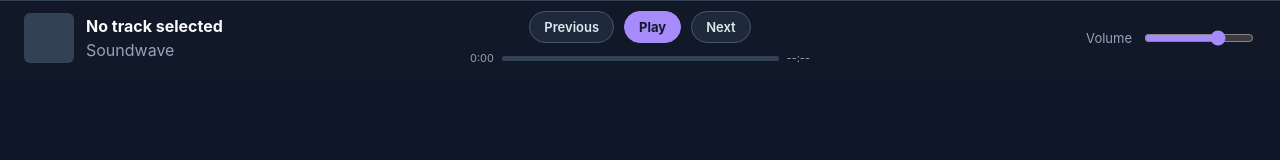
Scenario: PlaybackBar › volume interaction › clamps values outside 0-100 to the slider bounds
This screenshot has width=1280, height=160.
Set the slider labelled "Volume" to "150". click: (1199, 38)
box: x1=1144 y1=30 x2=1254 y2=46
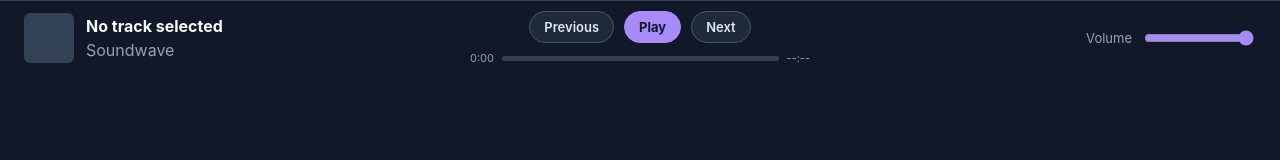
expect the slider labelled "Volume" holds "100": met
Set the slider labelled "Volume" to "-10". click: (1199, 38)
box: x1=1144 y1=30 x2=1254 y2=46
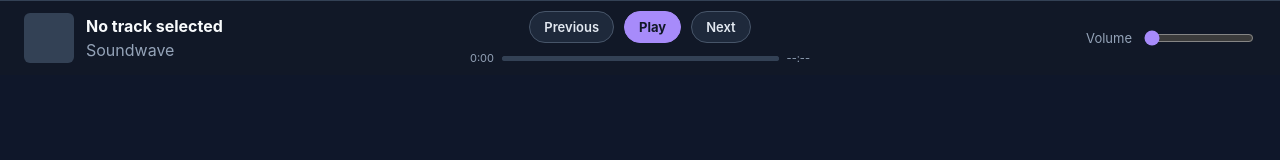
expect the slider labelled "Volume" holds "0": met, box x1=1144 y1=30 x2=1254 y2=46
